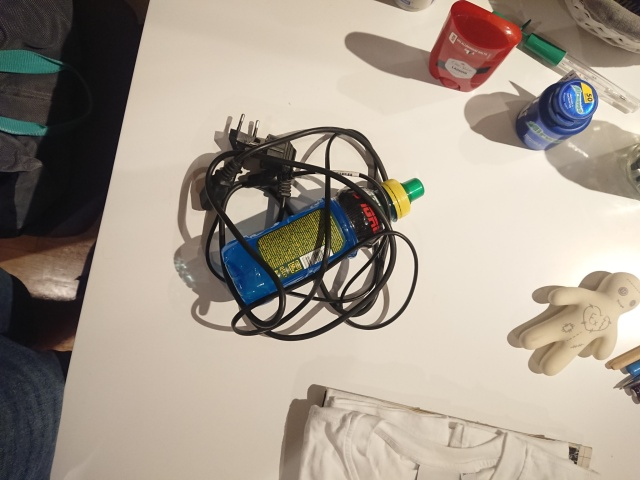Vindi Iso Sport Forest Strawberries 500mL: (219, 176, 426, 307)
